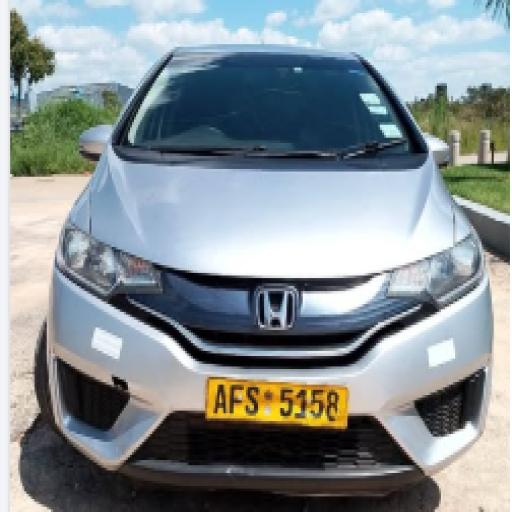number-plates: (207, 379, 339, 427)
